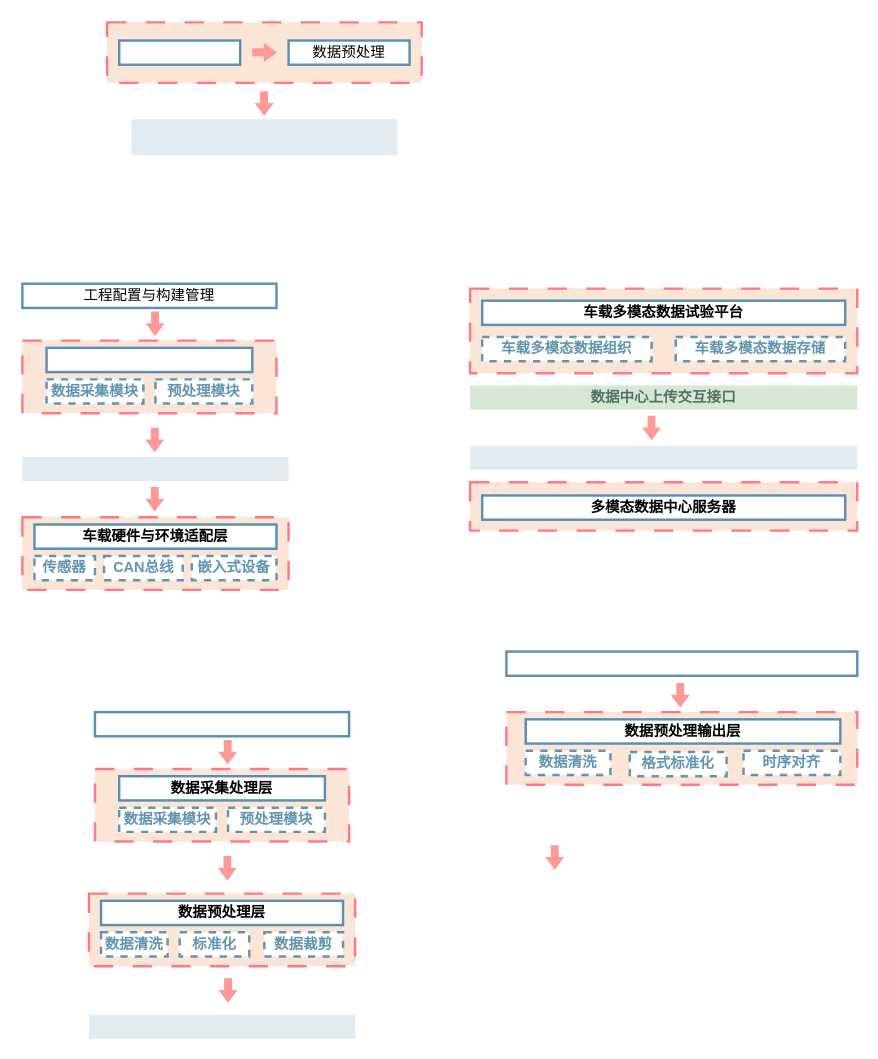
Some shapes in this 878 by 1059 pixel diagram are drawn without their labels. The centre of each missing label's shape, as x and y in pixels:
传感器数据采集: [179,52]
原始数据接收接口: [264,137]
多源传感器数据输入层: [221,723]
存储任务调度核心: [681,663]
客户端入口: [155,468]
数据传输与存储层: [221,1026]
数据接收接口: [663,457]
核心功能模块层: [149,359]
